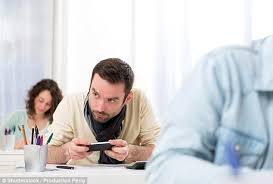student_copying: (42, 47, 171, 184)
